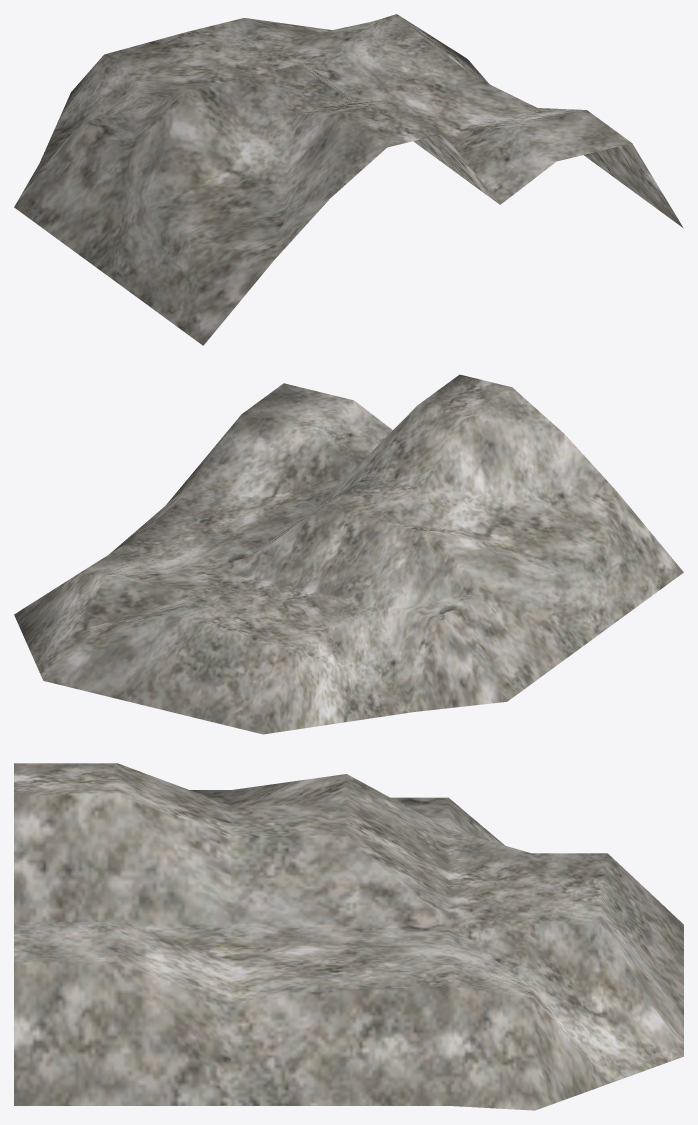
File: DWARF_PALACE_MAINHALL_BALK_DEBREE06.fbx
The picture shows the model from 3 angles, top to bottom: view 1: azimuth 30°, elevation 25°; view 2: azimuth 150°, elevation 25°; view 3: azimuth 270°, elevation 25°; orthographic projection. The views are drawn at different scales.
Visible parts, largest first — view 1: DWARF_PALACE_MAINHALL_BALK_DEBREE06; view 2: DWARF_PALACE_MAINHALL_BALK_DEBREE06; view 3: DWARF_PALACE_MAINHALL_BALK_DEBREE06.
Part boxes in pixels (x1=…): DWARF_PALACE_MAINHALL_BALK_DEBREE06: x1=14, y1=14, x2=683, y2=345; DWARF_PALACE_MAINHALL_BALK_DEBREE06: x1=14, y1=374, x2=683, y2=734; DWARF_PALACE_MAINHALL_BALK_DEBREE06: x1=14, y1=763, x2=683, y2=1110.
Size of the model in its own units: 91763 by 27411 by 94411.
Materials: 1 (1 with a texture image).
